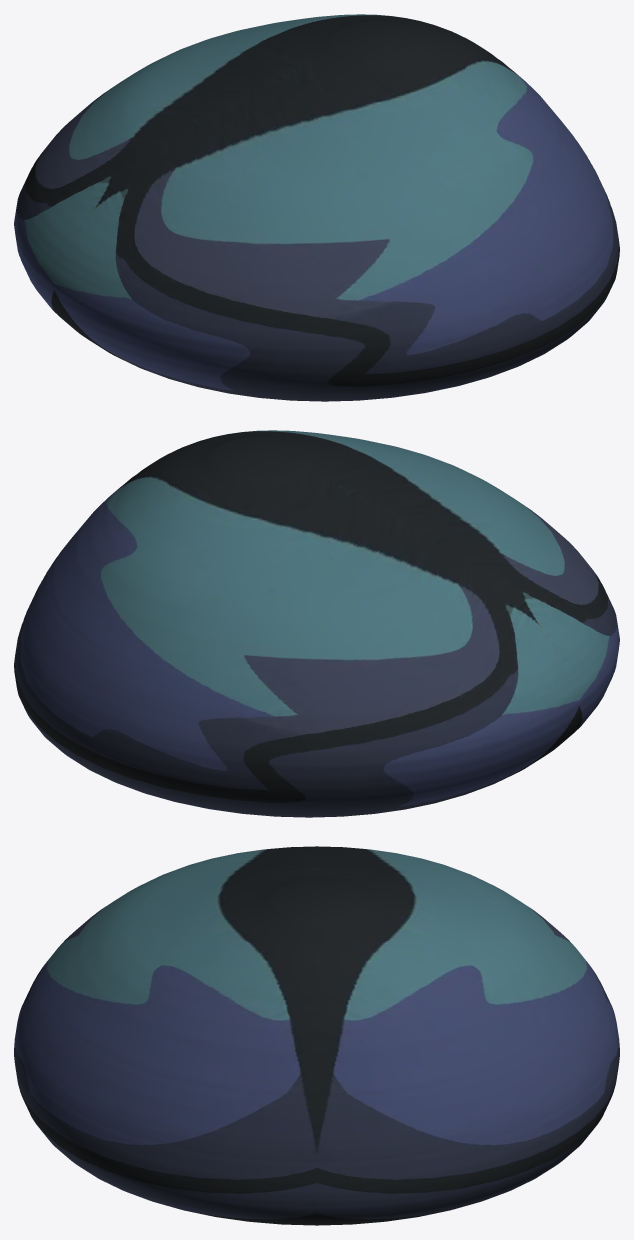
The model's file is cave_boulder.glb.
3 views of the same model, one above another, from view 1: azimuth 30°, elevation 25°; view 2: azimuth 150°, elevation 25°; view 3: azimuth 270°, elevation 25° (orthographic).
Visible parts, largest first — view 1: cave_boulder; view 2: cave_boulder; view 3: cave_boulder.
Boxes of the visible parts, box(x1,y1,x2,y2) form: cave_boulder: box(14, 14, 619, 401); cave_boulder: box(14, 430, 619, 817); cave_boulder: box(14, 846, 619, 1225).
Size of the model in its own units: 1 by 0.475 by 0.9922.
1 material, 1 textured.
